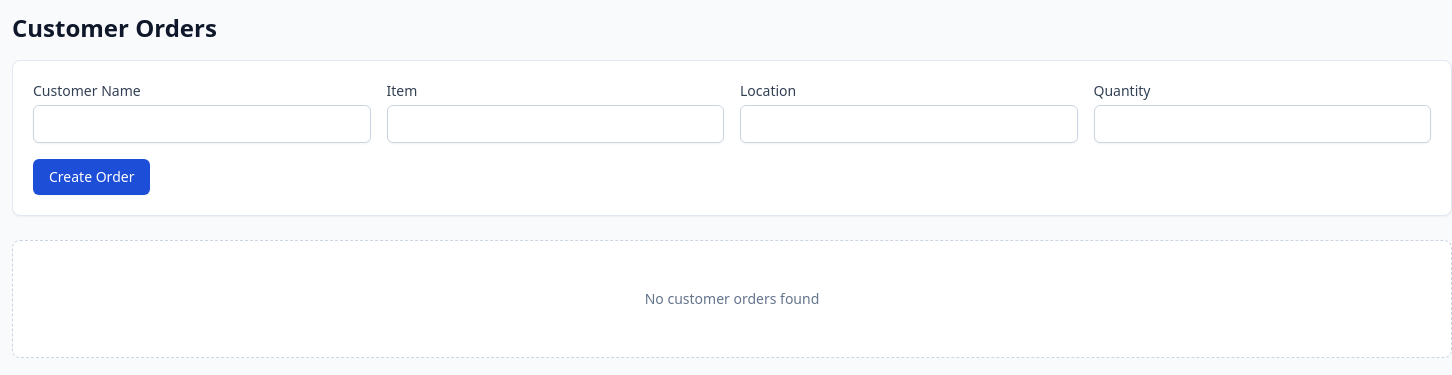
Test: CustomerOrdersScreen › refetches the list after a successful order creation
Check: the text "No customer orders found" is shown, box [645, 289, 819, 308]
In the field labelled "Customer Name": coordinates (202, 124) [33, 105, 370, 143], type "Acme Corp"
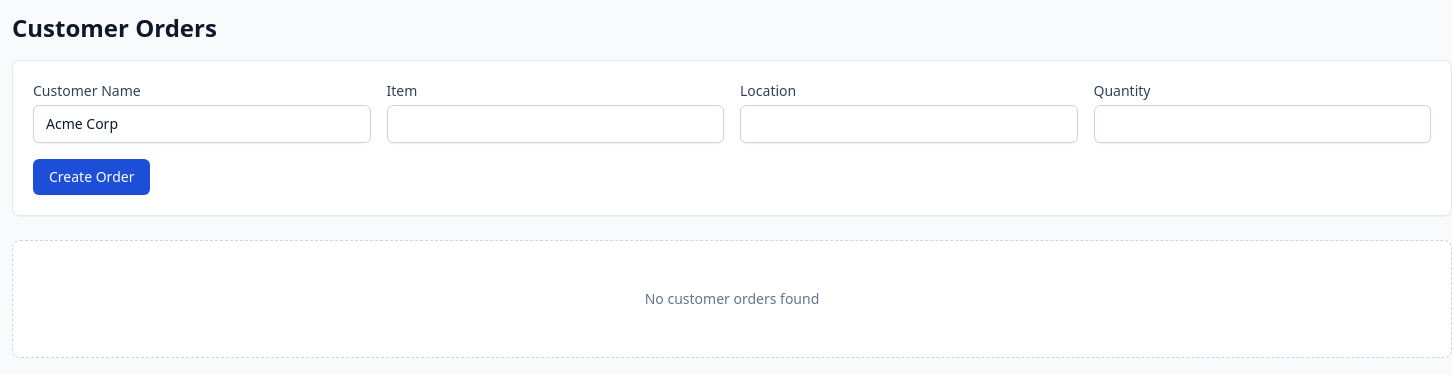
In the field labelled "Item": coordinates (555, 124) [386, 105, 724, 143], type "item-id"
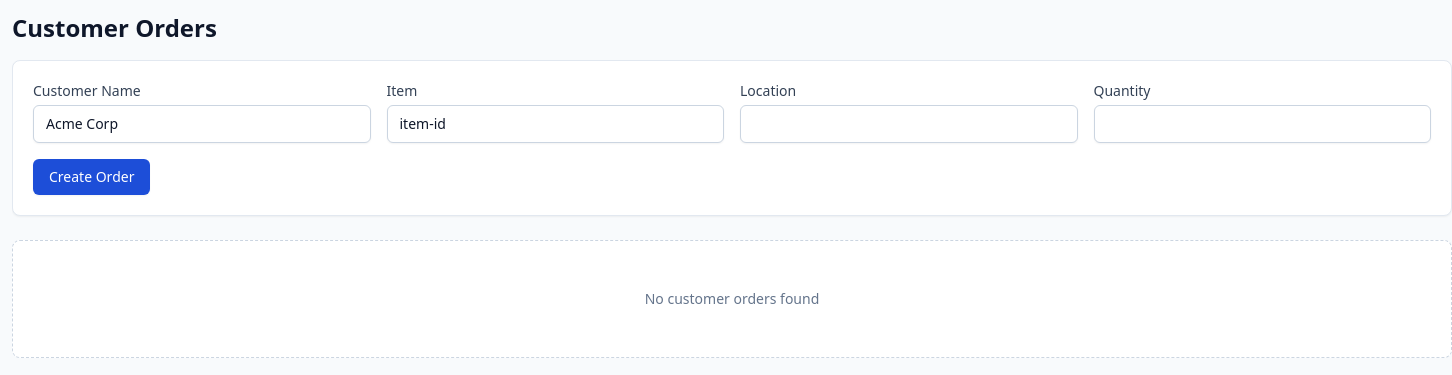
In the field labelled "Location": coordinates (909, 124) [740, 105, 1078, 143], type "loc-id"
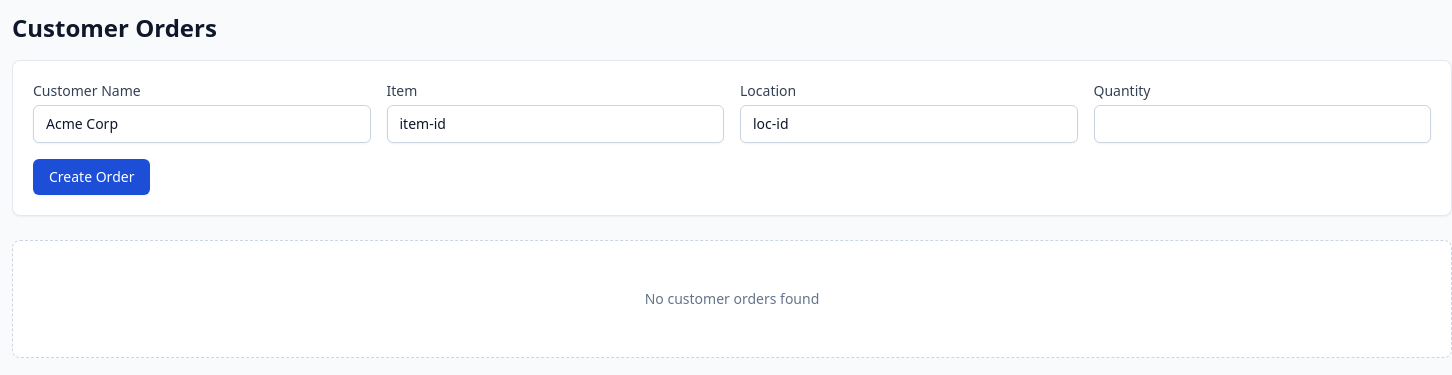
In the number field labelled "Quantity": coordinates (1262, 124) [1094, 105, 1431, 143], type "15"
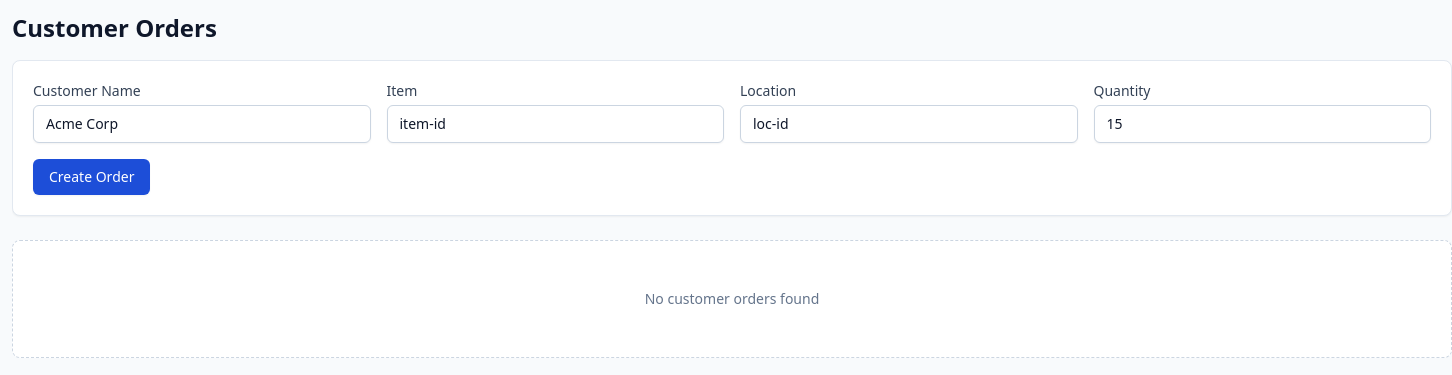
Click the button "Create Order": coordinates (92, 177) [33, 159, 150, 195]
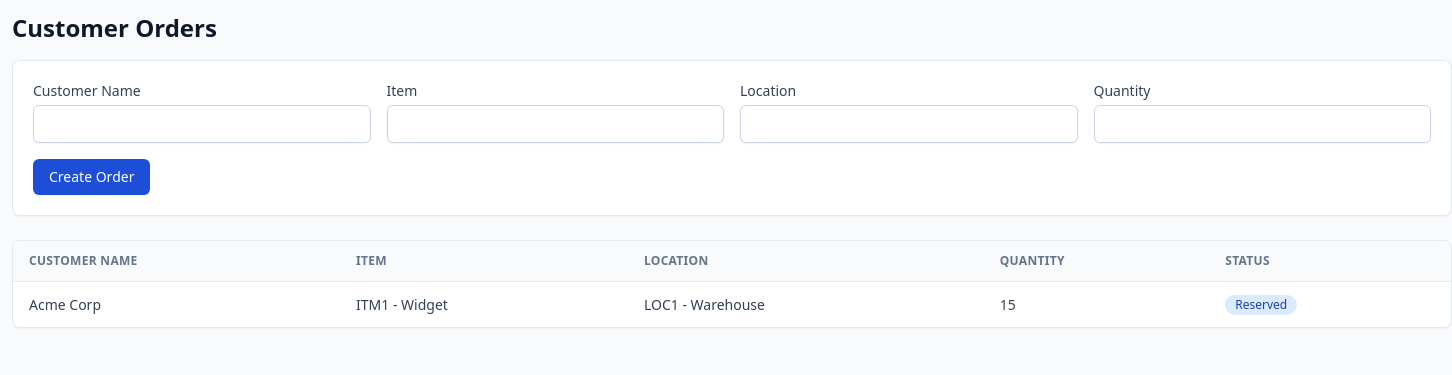
Check: the text "Acme Corp" is shown, box [13, 282, 340, 327]
